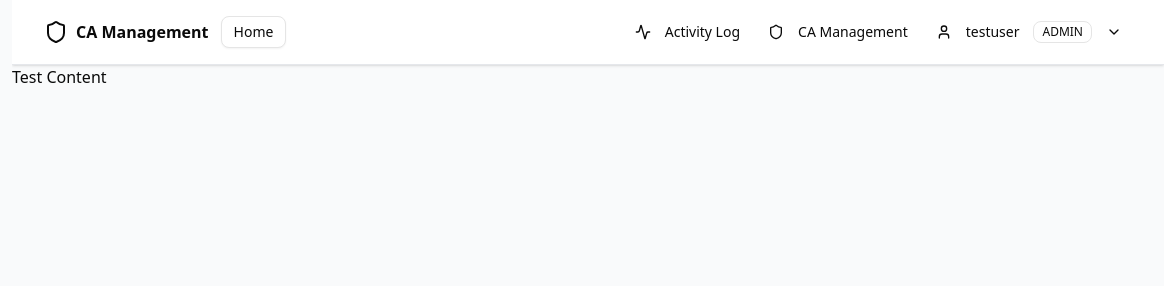
it: Layout Component › should show logout button when authenticated
Click the user menu to open the dropdown. Use userEvent for more realistic interaction.
Click the button "testuser ADMIN" at (1029, 32), box top-left (926, 16), bottom-right (1132, 48)
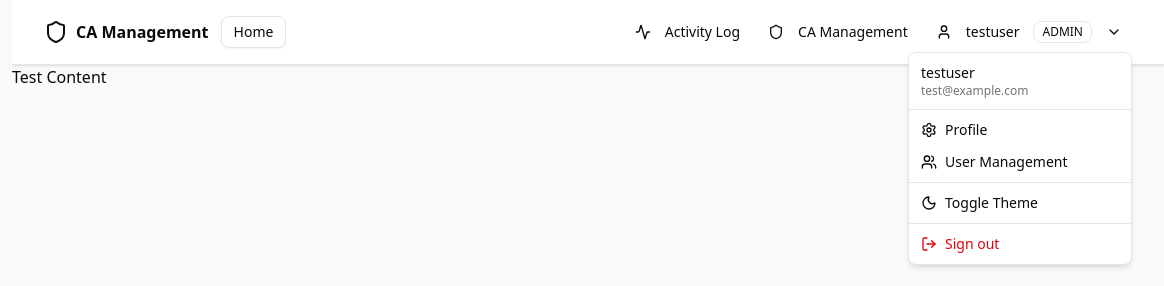
Expected: the menu item "Sign out" is shown, top-left (921, 234), bottom-right (999, 253)
